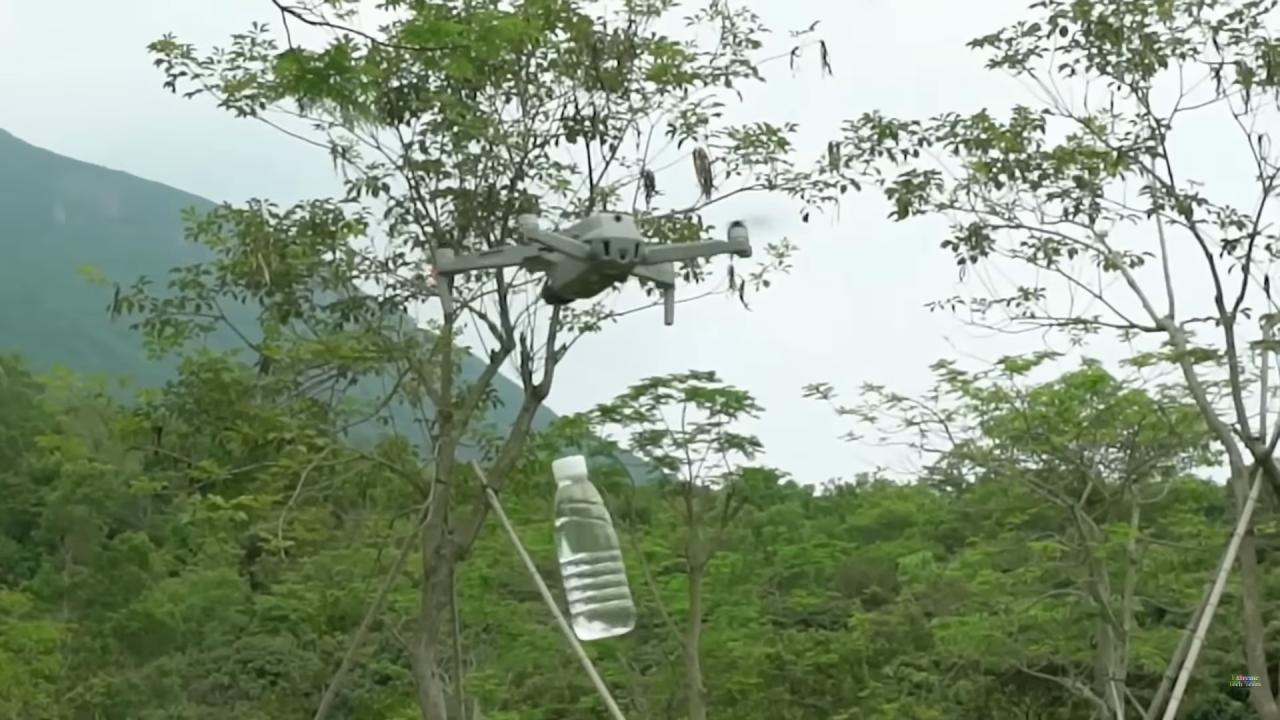Drone: (406, 201, 760, 339)
